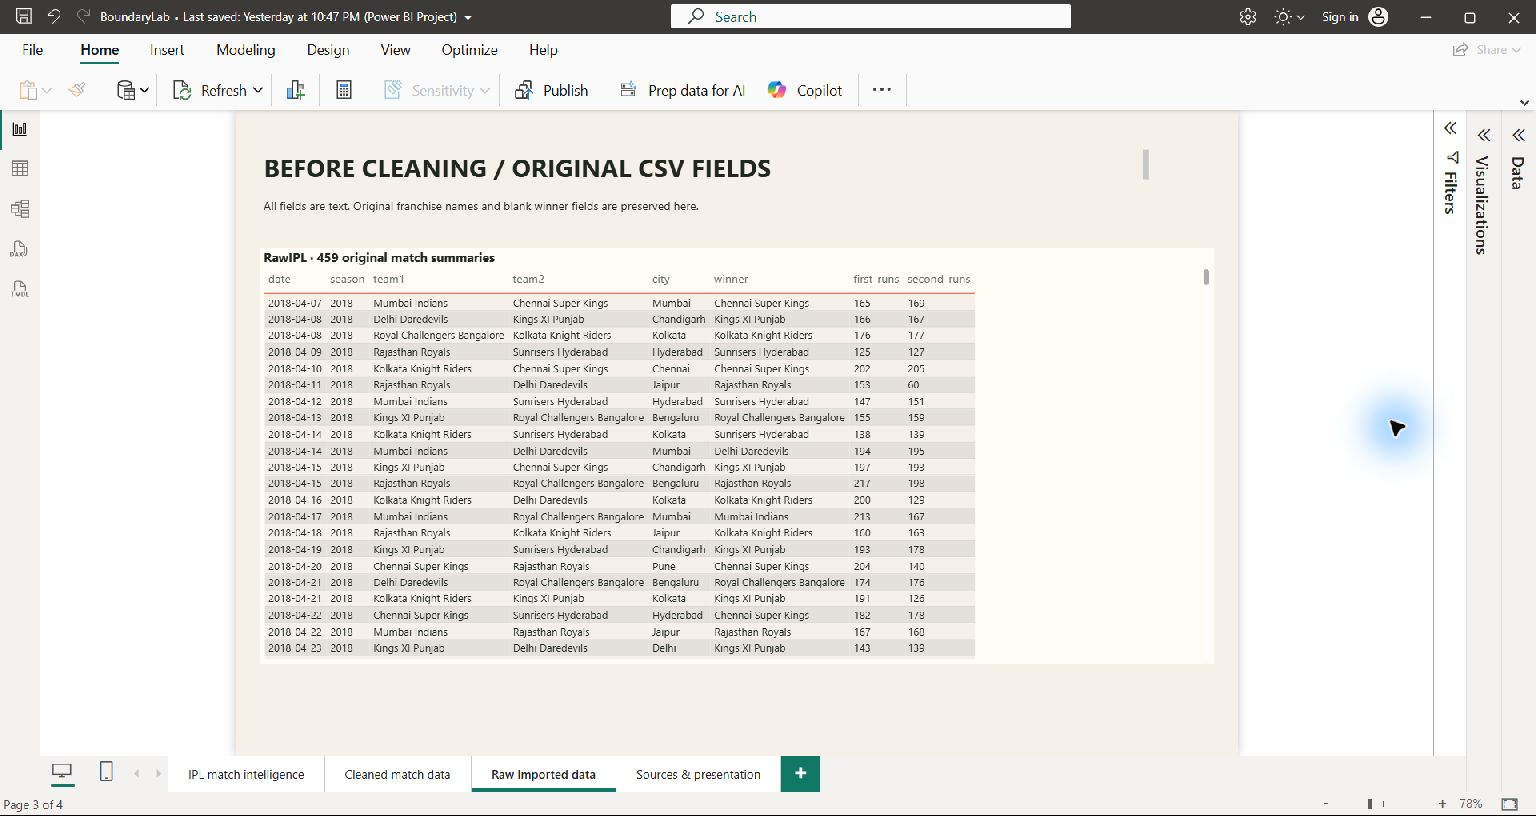

This screenshot's page, from the dashboard's own definition file:
{"tool":"powerbi","page":{"name":"Raw imported data","canvas":[1280,800],"ordinal":2},"visuals":[{"type":"textbox","box":[30,20,1140,50],"z":0},{"type":"textbox","box":[30,82,1190,44],"z":1},{"type":"tableEx","title":"RawIPL · 459 original match summaries","fields":{"Values":["RawIPL.date","RawIPL.season","RawIPL.team1","RawIPL.team2","RawIPL.city","RawIPL.winner","RawIPL.first_runs","RawIPL.second_runs"]},"box":[30,150,1218,530],"z":2}]}

Visuals, with their boxes on the page's 1280x800 design canvas (x1, y1, x2, y2). These are canvas units, not pixel positions in the 1536x816 screenshot, which may show the page scaled, cropped or inside an application window:
textbox: [x1=30, y1=20, x2=1170, y2=70]
textbox: [x1=30, y1=82, x2=1220, y2=126]
"RawIPL · 459 original match summaries" tableEx: [x1=30, y1=150, x2=1248, y2=680]
